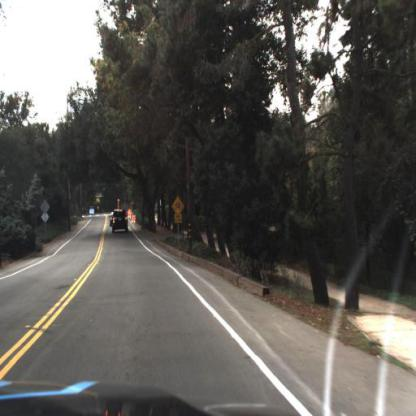car: (110, 207, 131, 237), (108, 209, 115, 230)
